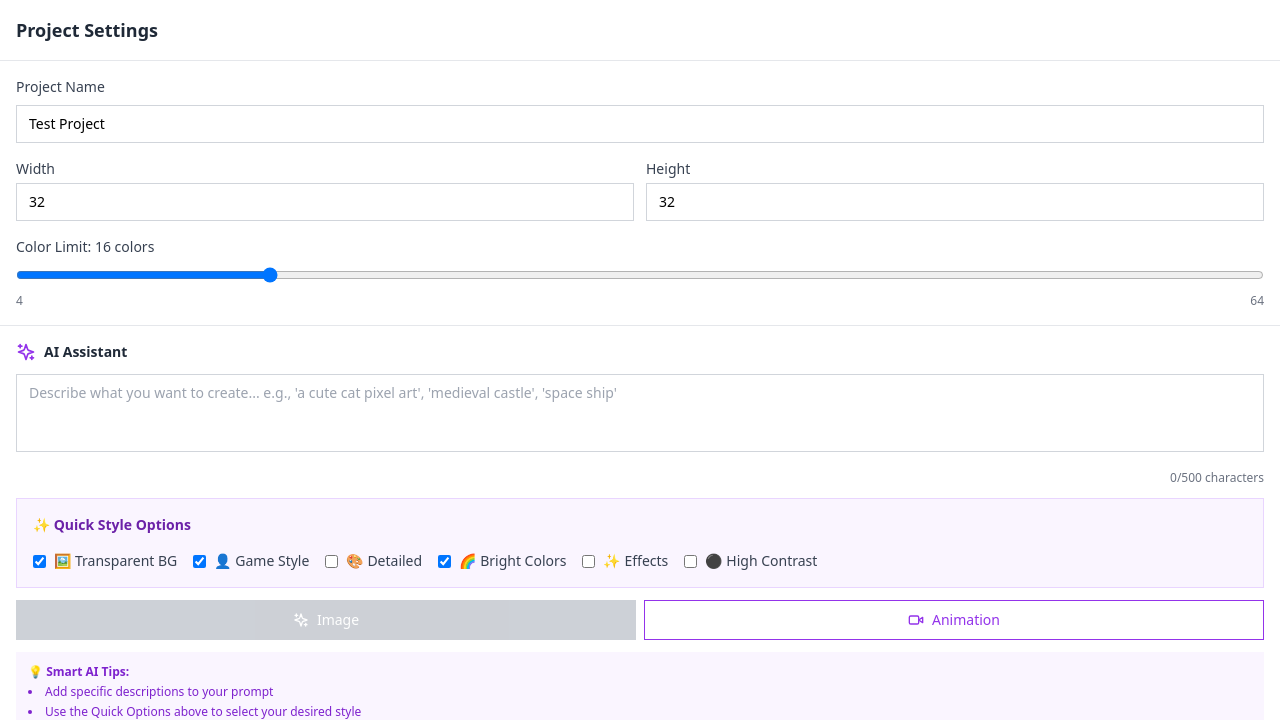
it: AI Generation Integration › should track character count
Check: the text "0/500 characters" is shown, box x1=1170 y1=469 x2=1264 y2=486
Type "test prompt" into the text box with placeholder "Describe what you want to create" at (640, 413), box x1=16 y1=374 x2=1264 y2=452
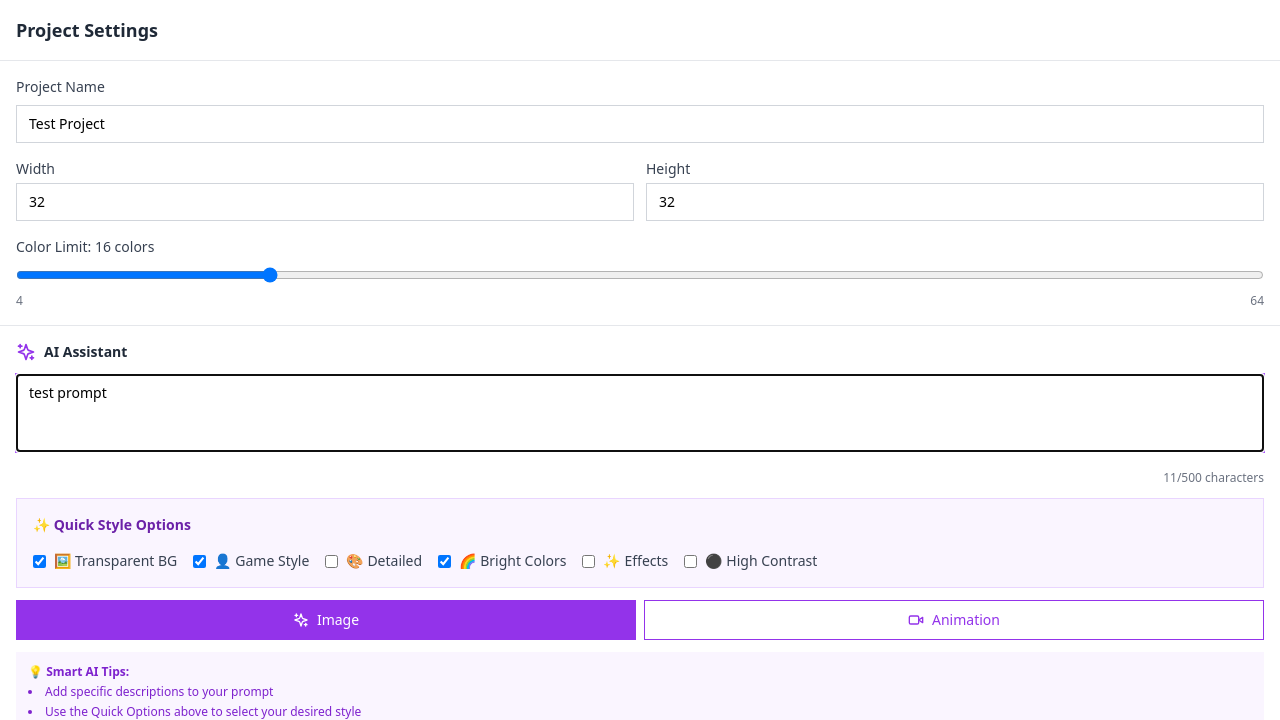
Check: the text "11/500 characters" is shown, box x1=1163 y1=469 x2=1264 y2=486
